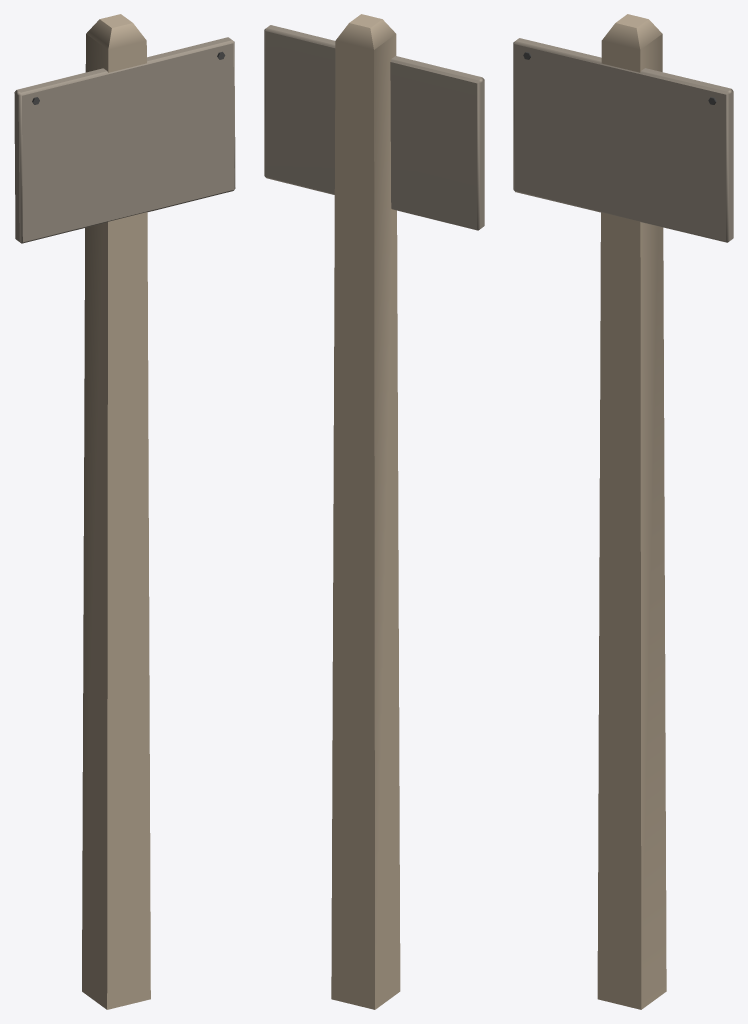
The model's file is camp_post.glb.
3 views of the same model, side by side, from view 1: azimuth 30°, elevation 25°; view 2: azimuth 150°, elevation 25°; view 3: azimuth 330°, elevation 25° (orthographic).
Parts seen in each view (by area): view 1: static; view 2: static; view 3: static.
Boxes of the visible parts, bbox=[...] form: static: bbox=[14, 14, 235, 1009]; static: bbox=[264, 14, 484, 1009]; static: bbox=[513, 14, 733, 1009].
Size of the model in its own units: 0.4211 by 1.81 by 0.0855.
